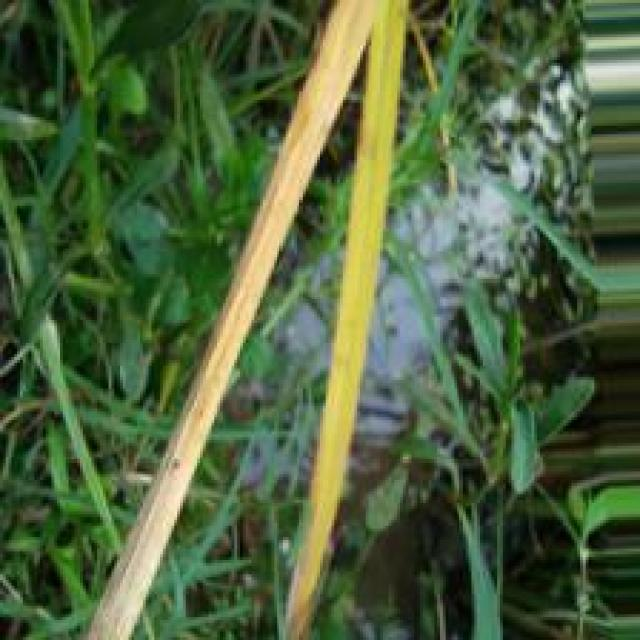Bacterial_Leaf_Blight: (82, 40, 368, 640)
